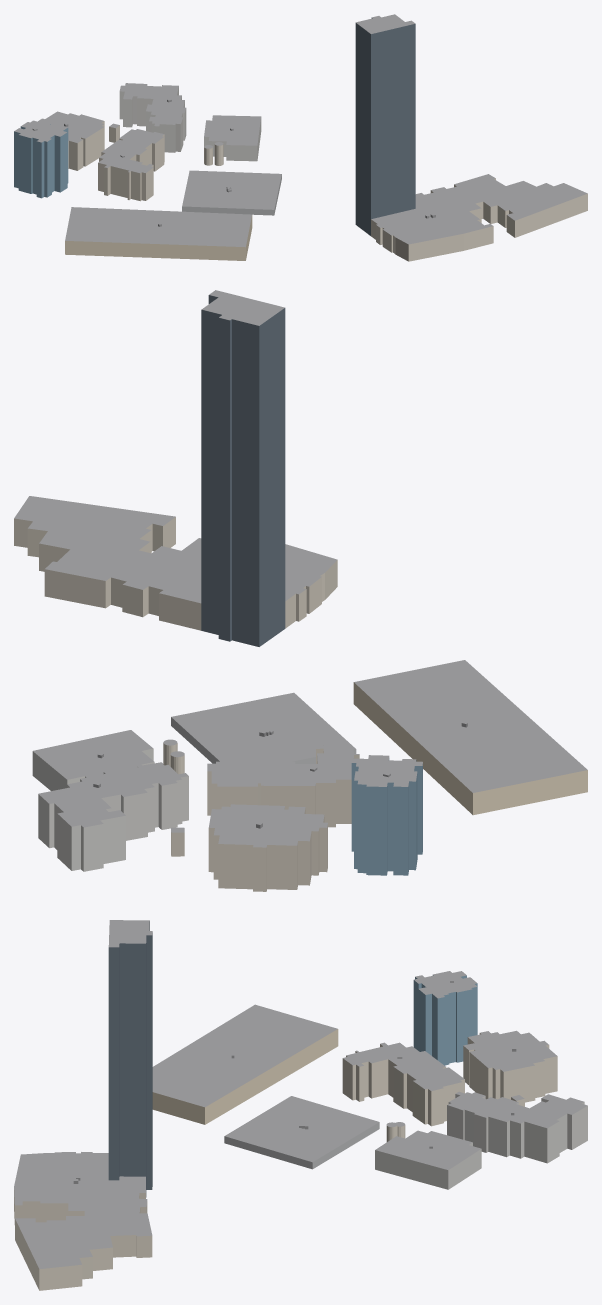
The model's file is building_-1_5.glb.
The picture shows the model from 3 angles, top to bottom: view 1: azimuth 30°, elevation 25°; view 2: azimuth 150°, elevation 25°; view 3: azimuth 270°, elevation 25°; orthographic projection. The views are drawn at different scales.
Parts seen in each view (by area): view 1: roof, glass_dark, concrete_warm, glass_blue, sandstone, concrete_light, industrial; view 2: roof, glass_dark, concrete_warm, concrete_light, glass_blue, sandstone; view 3: roof, concrete_warm, glass_dark, concrete_light, glass_blue, sandstone, industrial.
Boxes of the visible parts, x1=… form: roof: x1=14, y1=14, x2=587, y2=247; glass_dark: x1=355, y1=17, x2=415, y2=235; concrete_warm: x1=68, y1=121, x2=587, y2=261; glass_blue: x1=14, y1=124, x2=68, y2=198; sandstone: x1=65, y1=215, x2=252, y2=260; concrete_light: x1=119, y1=85, x2=261, y2=161; industrial: x1=182, y1=174, x2=281, y2=215; roof: x1=14, y1=290, x2=587, y2=847; glass_dark: x1=201, y1=295, x2=285, y2=646; concrete_warm: x1=14, y1=517, x2=359, y2=891; concrete_light: x1=32, y1=748, x2=188, y2=871; glass_blue: x1=351, y1=758, x2=422, y2=875; sandstone: x1=353, y1=682, x2=587, y2=815; roof: x1=14, y1=920, x2=587, y2=1269; concrete_warm: x1=14, y1=1033, x2=557, y2=1290; glass_dark: x1=108, y1=921, x2=152, y2=1197; concrete_light: x1=375, y1=1094, x2=587, y2=1189; glass_blue: x1=413, y1=975, x2=477, y2=1065; sandstone: x1=152, y1=1029, x2=338, y2=1124; industrial: x1=224, y1=1122, x2=379, y2=1169.
Size of the model in its own units: 328 by 145 by 296.
